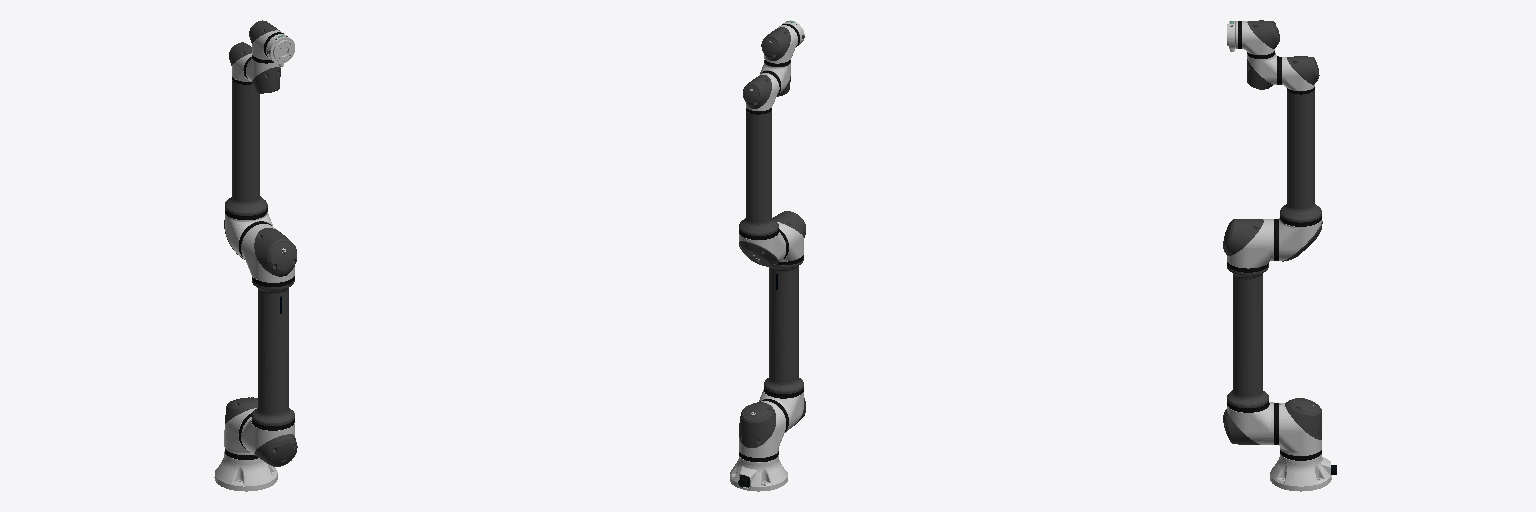
robot.urdf — rb3_1200e_u:
<?xml version="1.0" ?>
<!-- =================================================================================== -->
<!-- |    This document was autogenerated by xacro from rb3_1200e_u.urdf.xacro         | -->
<!-- |    EDITING THIS FILE BY HAND IS NOT RECOMMENDED                                 | -->
<!-- =================================================================================== -->
<robot name="rb3_1200e_u">
  <link name="link0">
    <visual>
      <geometry>
        <mesh filename="package://rbpodo_description/meshes/rb3_1200e_u/visual/link0.dae"/>
      </geometry>
    </visual>
    <collision>
      <geometry>
        <mesh filename="package://rbpodo_description/meshes/rb3_1200e_u/collision/link0.stl"/>
      </geometry>
    </collision>
  </link>
  <link name="link1">
    <visual>
      <geometry>
        <mesh filename="package://rbpodo_description/meshes/rb3_1200e_u/visual/link1.dae"/>
      </geometry>
    </visual>
    <collision>
      <geometry>
        <mesh filename="package://rbpodo_description/meshes/rb3_1200e_u/collision/link1.stl"/>
      </geometry>
    </collision>
    <inertial>
      <origin rpy="0 0 0" xyz="0.000057 -0.005795 -0.034516"/>
      <mass value="4.147"/>
      <inertia ixx="0.008787118" ixy="-8.564e-06" ixz="-8.047e-06" iyy="0.008888636" iyz="0.000893025" izz="0.007845924"/>
    </inertial>
  </link>
  <link name="link2">
    <visual>
      <geometry>
        <mesh filename="package://rbpodo_description/meshes/rb3_1200e_u/visual/link2.dae"/>
      </geometry>
    </visual>
    <collision>
      <geometry>
        <mesh filename="package://rbpodo_description/meshes/rb3_1200e_u/collision/link2.stl"/>
      </geometry>
    </collision>
    <inertial>
      <origin rpy="0 0 0" xyz="-0.000036 -0.122555 0.284513"/>
      <mass value="9.923"/>
      <inertia ixx="0.704196245" ixy="-1.4348e-05" ixz="-7.2841e-05" iyy="0.700668439" iyz="0.000236246" izz="0.02269287"/>
    </inertial>
  </link>
  <link name="link3">
    <visual>
      <geometry>
        <mesh filename="package://rbpodo_description/meshes/rb3_1200e_u/visual/link3.dae"/>
      </geometry>
    </visual>
    <collision>
      <geometry>
        <mesh filename="package://rbpodo_description/meshes/rb3_1200e_u/collision/link3.stl"/>
      </geometry>
    </collision>
    <inertial>
      <origin rpy="0 0 0" xyz="0.000018 -0.014837 0.265923"/>
      <mass value="4.156"/>
      <inertia ixx="0.209511383" ixy="-1.346e-06" ixz="2.1224e-05" iyy="0.209211843" iyz="0.002967793" izz="0.007960204"/>
    </inertial>
  </link>
  <link name="link4">
    <visual>
      <geometry>
        <mesh filename="package://rbpodo_description/meshes/rb3_1200e_u/visual/link4.dae"/>
      </geometry>
    </visual>
    <collision>
      <geometry>
        <mesh filename="package://rbpodo_description/meshes/rb3_1200e_u/collision/link4.stl"/>
      </geometry>
    </collision>
    <inertial>
      <origin rpy="0 0 0" xyz="0.000057 -0.106332 0.025881"/>
      <mass value="1.452"/>
      <inertia ixx="0.001629031" ixy="3.99e-07" ixz="2.37e-07" iyy="0.001558024" iyz="0.000127282" izz="0.001224887"/>
    </inertial>
  </link>
  <link name="link5">
    <visual>
      <geometry>
        <mesh filename="package://rbpodo_description/meshes/rb3_1200e_u/visual/link5.dae"/>
      </geometry>
    </visual>
    <collision>
      <geometry>
        <mesh filename="package://rbpodo_description/meshes/rb3_1200e_u/collision/link5.stl"/>
      </geometry>
    </collision>
    <inertial>
      <origin rpy="0 0 0" xyz="-0.000028 -0.025911 -0.004363"/>
      <mass value="1.454"/>
      <inertia ixx="0.001631445" ixy="1.764e-06" ixz="2.2e-07" iyy="0.001226962" iyz="0.000127473" izz="0.001560416"/>
    </inertial>
  </link>
  <link name="link6">
    <visual>
      <geometry>
        <mesh filename="package://rbpodo_description/meshes/rb3_1200e_u/visual/link6.dae"/>
      </geometry>
    </visual>
    <collision>
      <geometry>
        <mesh filename="package://rbpodo_description/meshes/rb3_1200e_u/collision/link6.stl"/>
      </geometry>
    </collision>
    <inertial>
      <origin rpy="0 0 0" xyz="-0.000002 -0.079964 -0.000494"/>
      <mass value="0.243"/>
      <inertia ixx="0.000147823" ixy="2.46e-07" ixz="6.43e-07" iyy="0.000243703" iyz="-5.54e-07" izz="0.000142339"/>
    </inertial>
  </link>
  <link name="tcp"/>
  <joint name="base" type="revolute">
    <origin rpy="0 0 0" xyz="0 0 0.1692"/>
    <parent link="link0"/>
    <child link="link1"/>
    <axis xyz="0 0 1"/>
    <limit effort="10" lower="-3.14" upper="3.14" velocity="3.14"/>
  </joint>
  <joint name="shoulder" type="revolute">
    <origin rpy="0 0 0" xyz="0 0 0"/>
    <parent link="link1"/>
    <child link="link2"/>
    <axis xyz="0 1 0"/>
    <limit effort="10" lower="-3.14" upper="3.14" velocity="3.14"/>
  </joint>
  <joint name="elbow" type="revolute">
    <origin rpy="0 0 0" xyz="0 0 0.5669"/>
    <parent link="link2"/>
    <child link="link3"/>
    <axis xyz="0 1 0"/>
    <limit effort="10" lower="-3.14" upper="3.14" velocity="3.14"/>
  </joint>
  <joint name="wrist1" type="revolute">
    <origin rpy="0 0 0" xyz="0 0 0.5224"/>
    <parent link="link3"/>
    <child link="link4"/>
    <axis xyz="0 1 0"/>
    <limit effort="10" lower="-3.14" upper="3.14" velocity="3.14"/>
  </joint>
  <joint name="wrist2" type="revolute">
    <origin rpy="0 0 0" xyz="0 -0.1107 0.1107"/>
    <parent link="link4"/>
    <child link="link5"/>
    <axis xyz="0 0 1"/>
    <limit effort="10" lower="-3.14" upper="3.14" velocity="3.14"/>
  </joint>
  <joint name="wrist3" type="revolute">
    <origin rpy="0 0 0" xyz="0 0 0"/>
    <parent link="link5"/>
    <child link="link6"/>
    <axis xyz="0 1 0"/>
    <limit effort="10" lower="-3.14" upper="3.14" velocity="3.14"/>
  </joint>
  <joint name="tcp_joint" type="fixed">
    <origin rpy="0 0 0" xyz="0 -0.0967 0"/>
    <parent link="link6"/>
    <child link="tcp"/>
  </joint>
  <ros2_control name="RBPodoHardwareInterface" type="system">
    <hardware>
      <plugin>rbpodo_hardware/RBPodoHardwareInterface</plugin>
      <param name="cb_simulation">True</param>
      <param name="robot_ip">10.0.2.7</param>
    </hardware>
    <joint name="base">
      <param name="initial_position">0.0</param>
      <param name="torque_constant">1</param>
      <command_interface name="effort"/>
      <command_interface name="velocity"/>
      <command_interface name="position"/>
      <state_interface name="position"/>
      <state_interface name="effort"/>
    </joint>
    <joint name="shoulder">
      <param name="initial_position">0.0</param>
      <param name="torque_constant">1</param>
      <command_interface name="effort"/>
      <command_interface name="velocity"/>
      <command_interface name="position"/>
      <state_interface name="position"/>
      <state_interface name="effort"/>
    </joint>
    <joint name="elbow">
      <param name="initial_position">0.0</param>
      <param name="torque_constant">1</param>
      <command_interface name="effort"/>
      <command_interface name="velocity"/>
      <command_interface name="position"/>
      <state_interface name="position"/>
      <state_interface name="effort"/>
    </joint>
    <joint name="wrist1">
      <param name="initial_position">0.0</param>
      <param name="torque_constant">1</param>
      <command_interface name="effort"/>
      <command_interface name="velocity"/>
      <command_interface name="position"/>
      <state_interface name="position"/>
      <state_interface name="effort"/>
    </joint>
    <joint name="wrist2">
      <param name="initial_position">0.0</param>
      <param name="torque_constant">1</param>
      <command_interface name="effort"/>
      <command_interface name="velocity"/>
      <command_interface name="position"/>
      <state_interface name="position"/>
      <state_interface name="effort"/>
    </joint>
    <joint name="wrist3">
      <param name="initial_position">0.0</param>
      <param name="torque_constant">1</param>
      <command_interface name="effort"/>
      <command_interface name="velocity"/>
      <command_interface name="position"/>
      <state_interface name="position"/>
      <state_interface name="effort"/>
    </joint>
  </ros2_control>
</robot>

--- Facts derived from the render (not from the file) ---
Views: 3 orthographic renders of the robot side by side, from view 1: azimuth 30°, elevation 25°; view 2: azimuth 150°, elevation 25°; view 3: azimuth 270°, elevation 25°.
Model rb3_1200e_u with 8 links and 7 joints (6 revolute, 1 fixed), rooted at link0, posed every joint at zero.
Visible links, largest first — view 1: link2, link3, link0, link1, link4, link6, link5; view 2: link2, link3, link1, link0, link5; view 3: link2, link3, link1, link0, link5, link4.
Boxes of the visible links, left/top/right/bottom form: link2: left=241, top=224, right=297, bottom=466; link3: left=224, top=42, right=272, bottom=259; link0: left=214, top=449, right=277, bottom=491; link1: left=224, top=397, right=257, bottom=455; link4: left=244, top=57, right=280, bottom=93; link6: left=264, top=33, right=294, bottom=66; link5: left=249, top=20, right=281, bottom=62; link2: left=759, top=211, right=805, bottom=432; link3: left=739, top=73, right=788, bottom=266; link1: left=739, top=399, right=788, bottom=457; link0: left=730, top=451, right=787, bottom=491; link5: left=761, top=25, right=798, bottom=66; link2: left=1223, top=219, right=1273, bottom=444; link3: left=1274, top=56, right=1322, bottom=261; link1: left=1274, top=398, right=1321, bottom=456; link0: left=1270, top=450, right=1336, bottom=491; link5: left=1242, top=20, right=1279, bottom=58; link4: left=1247, top=52, right=1280, bottom=89.
Size in the robot's own frame: 0.1729 by 0.3182 by 1.41 metres.
7 mesh visuals loaded from 7 distinct referenced files (7 Collada DAE).
